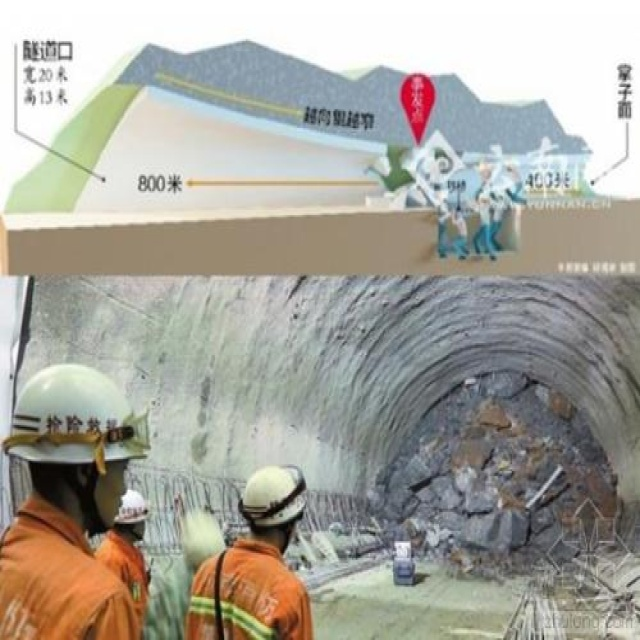Helmet: (1, 358, 155, 538), (234, 453, 315, 557)
Reflective vest: (1, 514, 148, 640), (176, 537, 321, 640), (99, 532, 153, 623)
